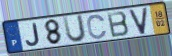8: (43, 18, 63, 46)
B: (105, 11, 131, 39)
C: (86, 13, 109, 40)
J: (25, 22, 41, 47)
U: (62, 13, 88, 44)
V: (128, 6, 149, 36)
